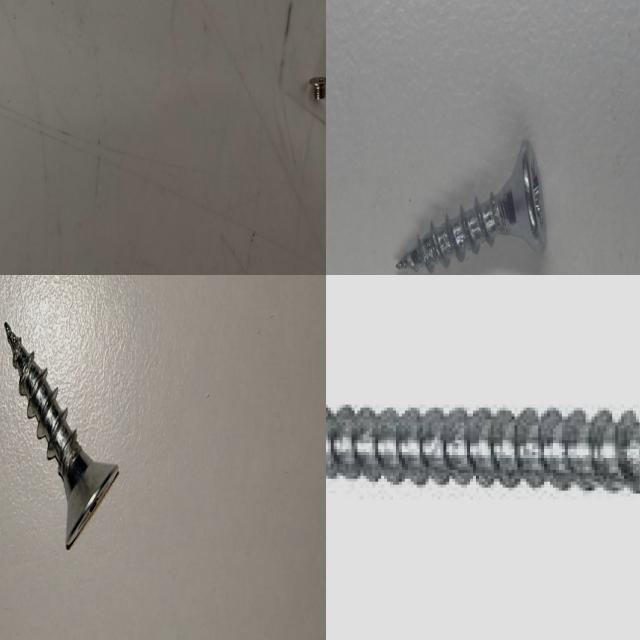Screw: (326, 408, 640, 493), (4, 321, 119, 548), (396, 139, 547, 271), (307, 73, 326, 104)
